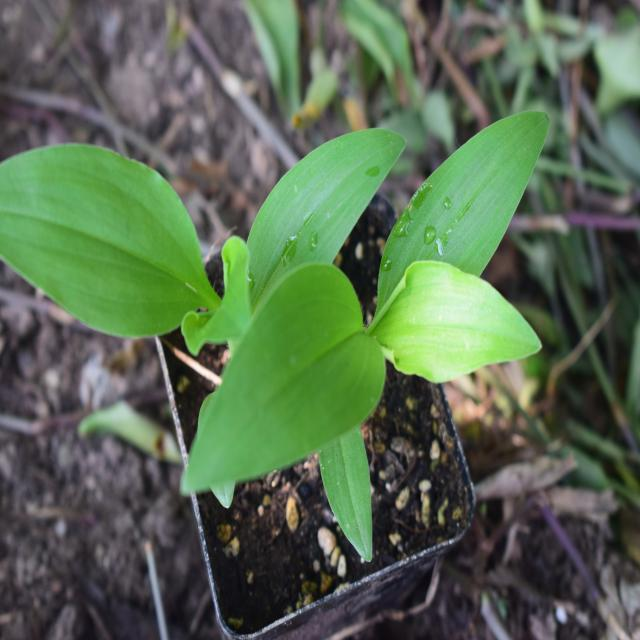Common Dayflower: (215, 89, 536, 487), (4, 113, 206, 353)
